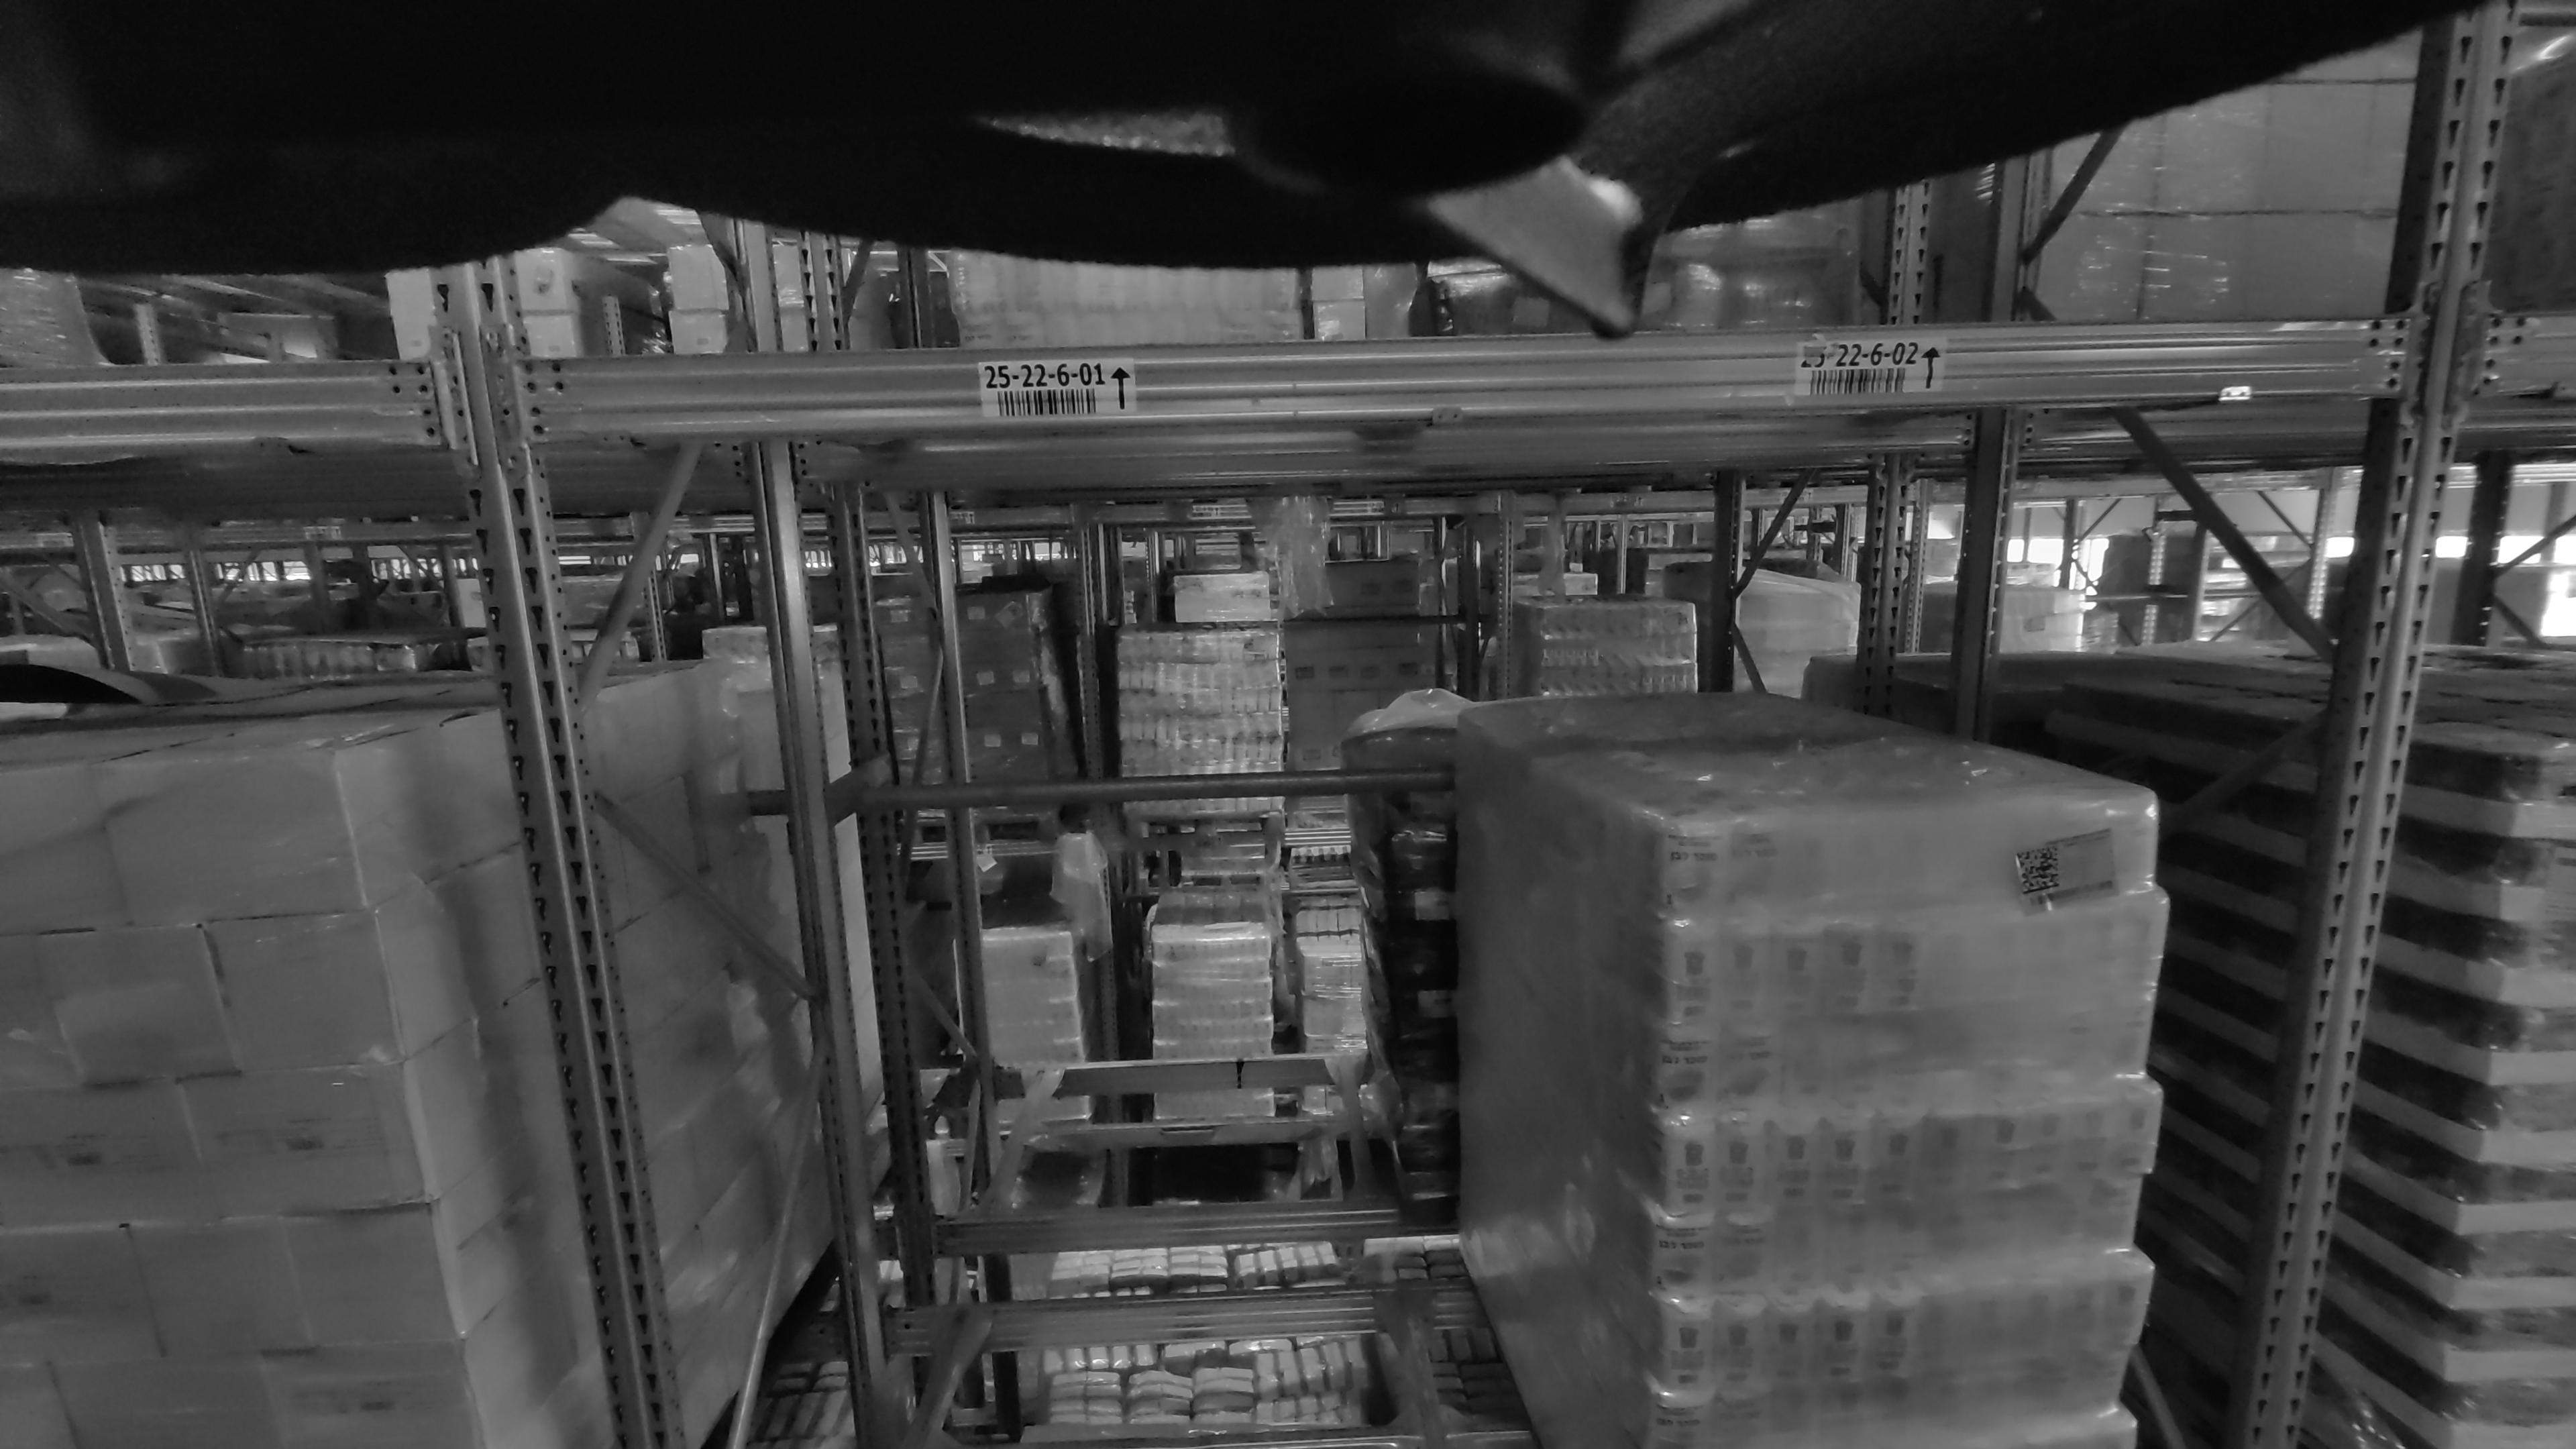empty-shelf: (805, 423, 1481, 1449), (1500, 168, 2263, 322), (564, 226, 1422, 345)
